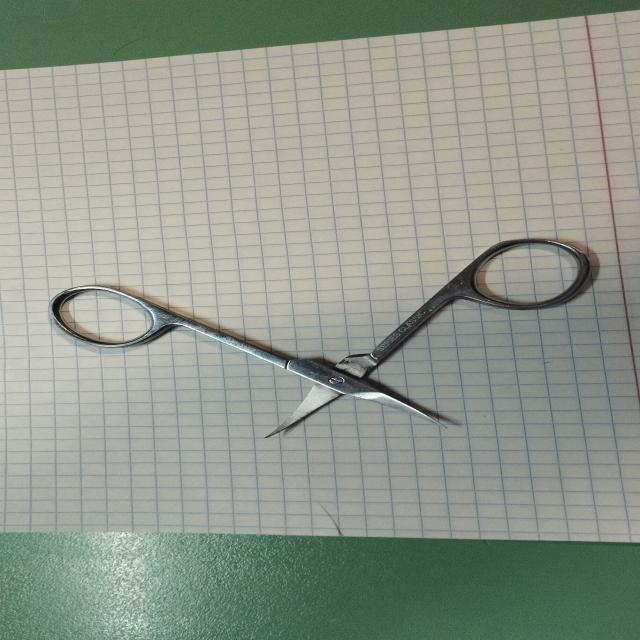tesoura: (42, 229, 604, 442)
